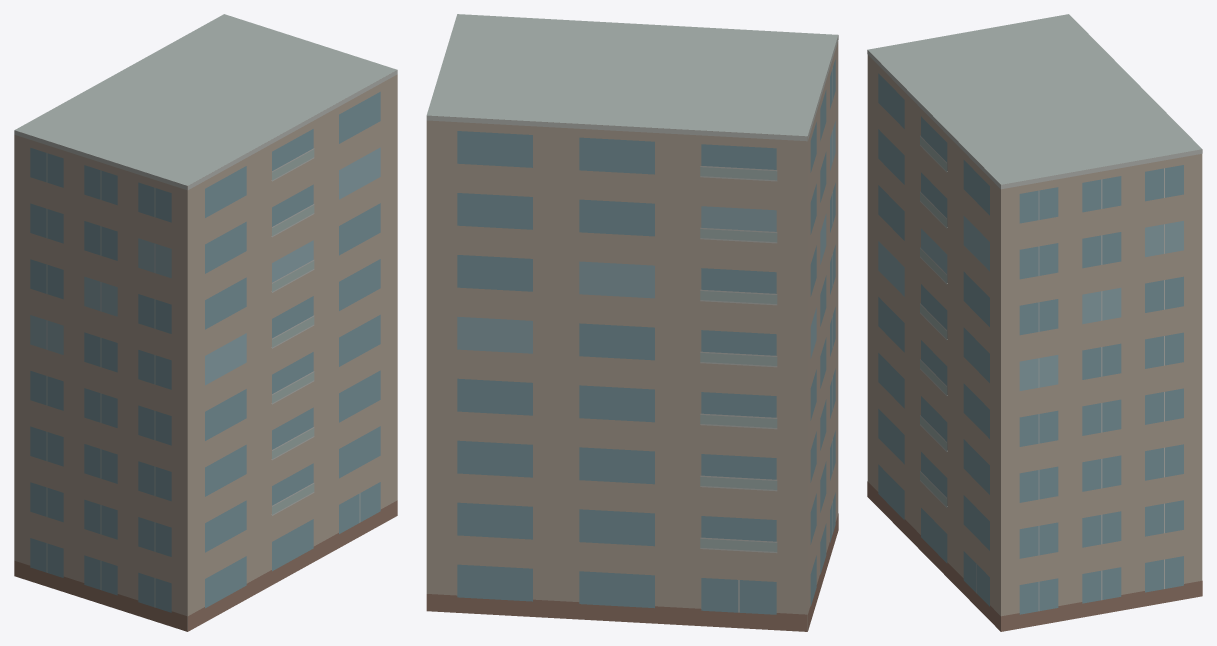
The model's file is survey-upis-32562192.glb.
3 renders of one model, left to right at view 1: azimuth 30°, elevation 25°; view 2: azimuth 150°, elevation 25°; view 3: azimuth 270°, elevation 25°, orthographic. The views are drawn at different scales.
Visible parts, largest first — view 1: survey-upis-32562192.tmp; view 2: survey-upis-32562192.tmp; view 3: survey-upis-32562192.tmp.
Boxes of the visible parts, x1,y1,x2,y2 form: survey-upis-32562192.tmp: [14, 14, 397, 631]; survey-upis-32562192.tmp: [426, 14, 838, 631]; survey-upis-32562192.tmp: [867, 14, 1202, 631].
Size of the model in its own units: 20.01 by 24.4 by 16.58.
